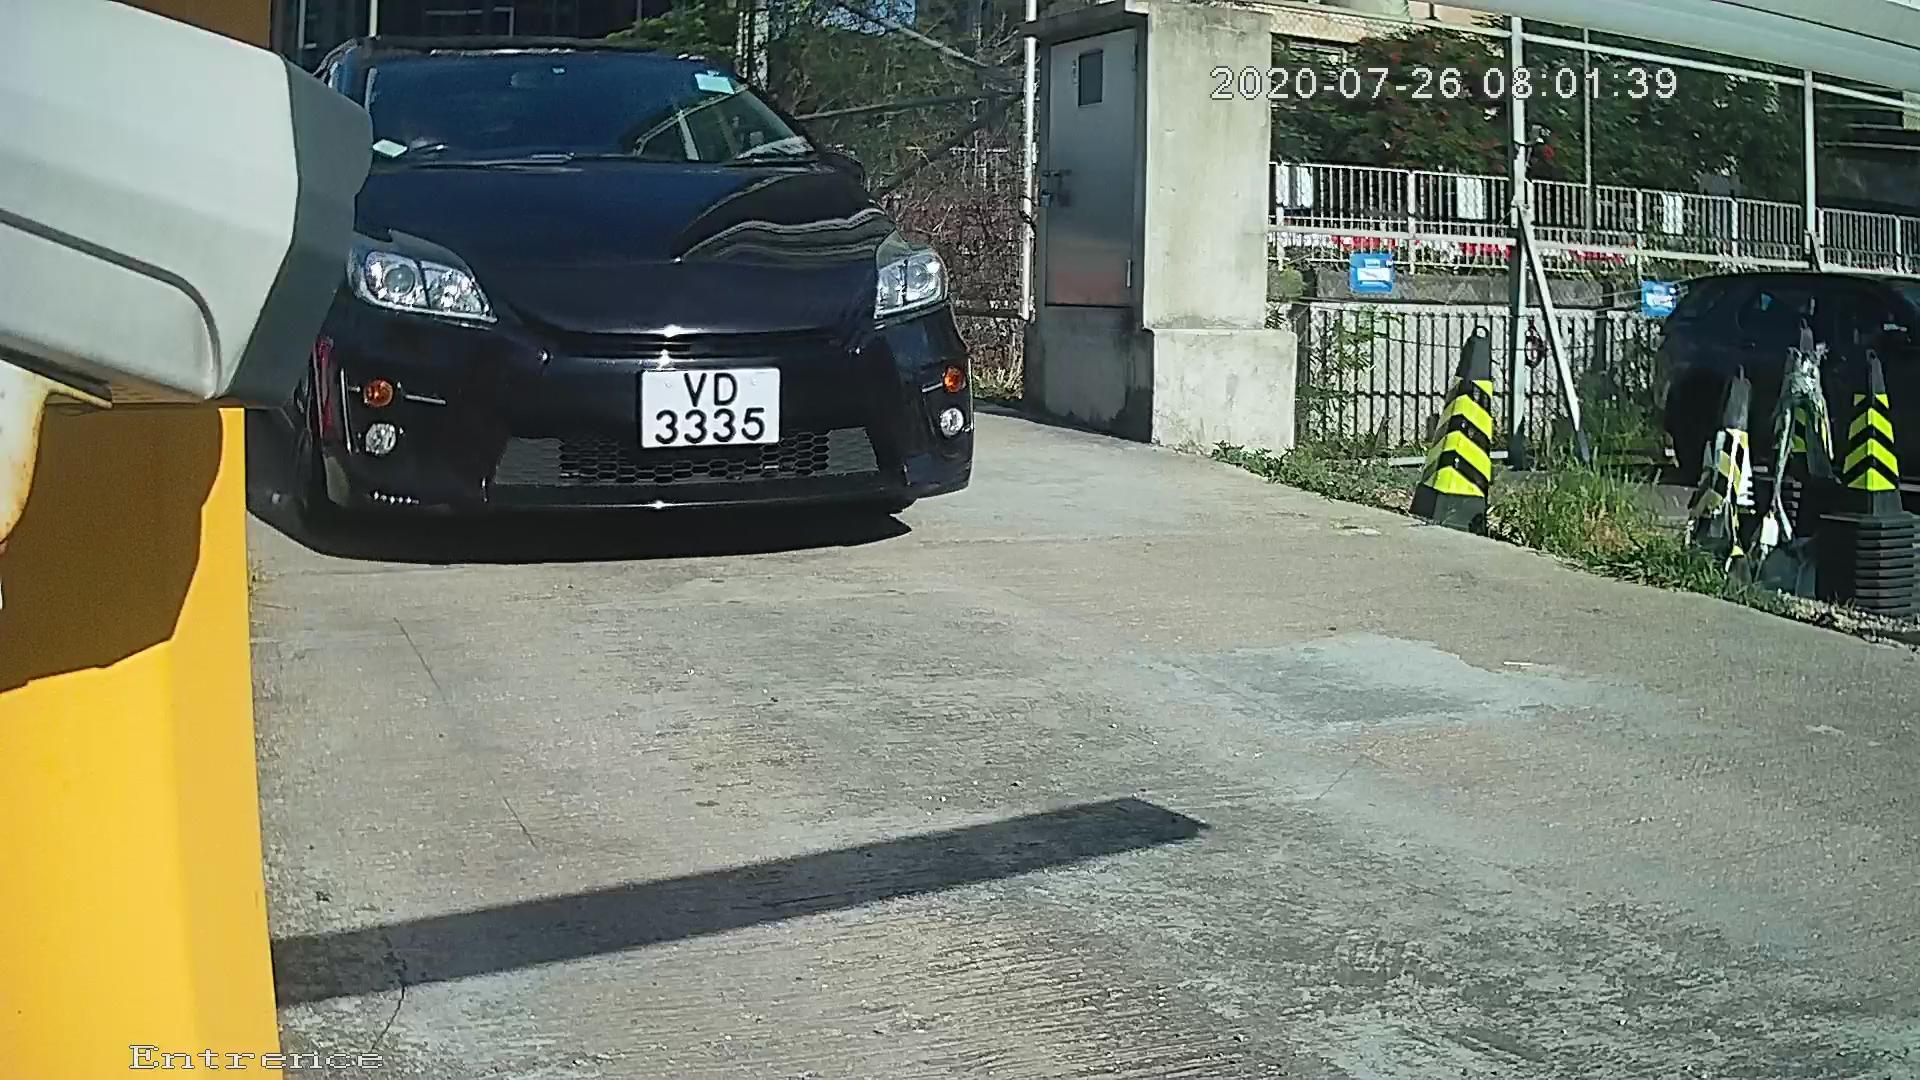privatecar: (198, 11, 1106, 541)
